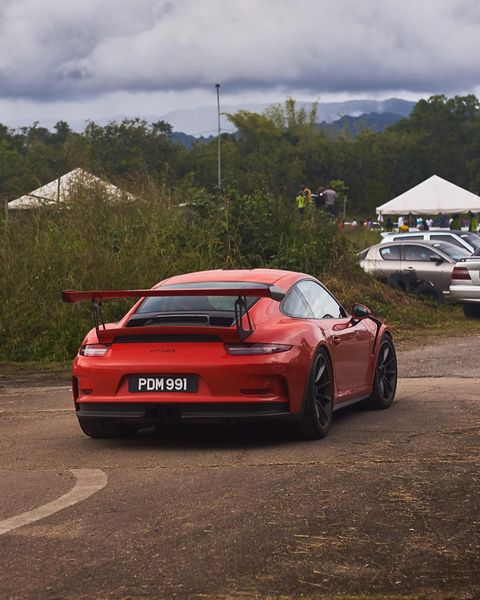License-Plate: (128, 375, 196, 391)
